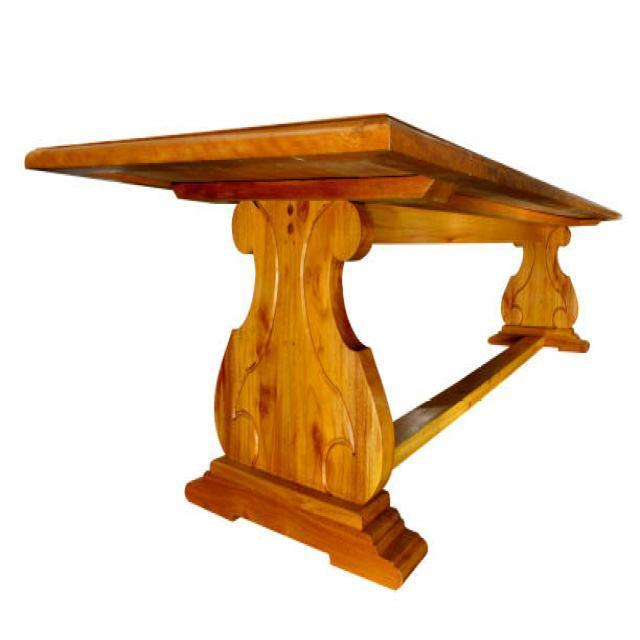table: (24, 110, 622, 590)
